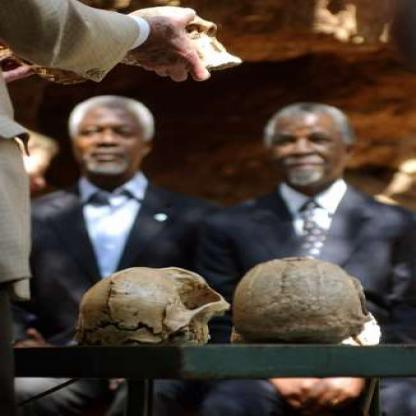face: (269, 104, 351, 187), (75, 98, 149, 176)
